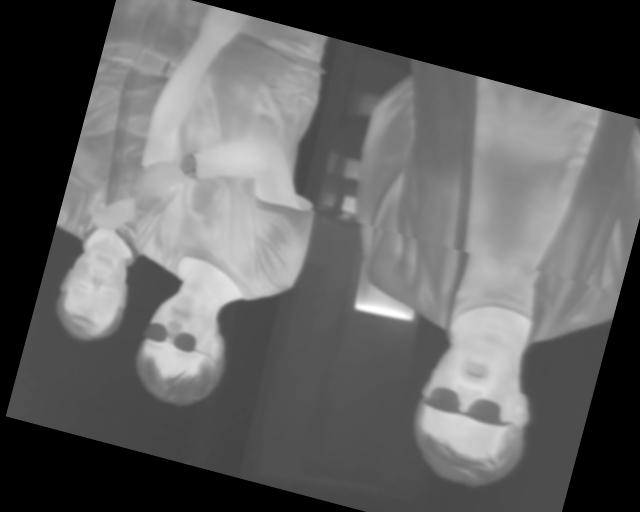face: (399, 325, 548, 500), (124, 281, 241, 417), (46, 230, 142, 351)
